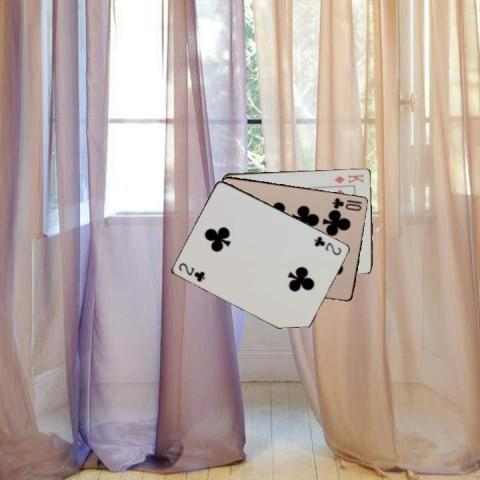10c: (330, 195, 364, 212)
2c: (311, 233, 343, 257), (176, 260, 207, 283)
Kd: (332, 170, 365, 184)
